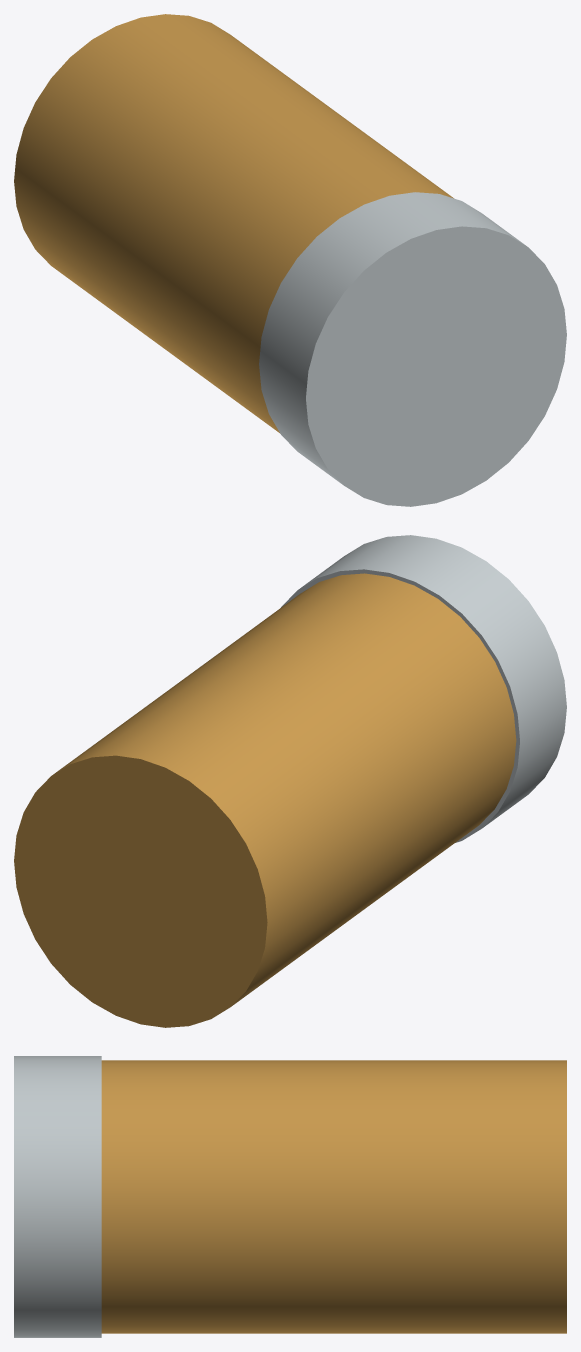
File: ref-gvm-47242.glb
3 renders of one model, top to bottom at view 1: azimuth 30°, elevation 25°; view 2: azimuth 150°, elevation 25°; view 3: azimuth 270°, elevation 25°, orthographic. The views are drawn at different scales.
Visible parts, largest first — view 1: Service barrel, Equipment flange; view 2: Service barrel, Equipment flange; view 3: Service barrel, Equipment flange.
Boxes of the visible parts, left/top/right/bottom form: Service barrel: left=14, top=14, right=453, bottom=432; Equipment flange: left=259, top=192, right=566, bottom=506; Service barrel: left=14, top=573, right=516, bottom=1027; Equipment flange: left=281, top=535, right=566, bottom=842; Service barrel: left=101, top=1060, right=566, bottom=1333; Equipment flange: left=14, top=1056, right=101, bottom=1337.
Bounding box in the file's own units: 2.06 × 2.06 × 4.04.
